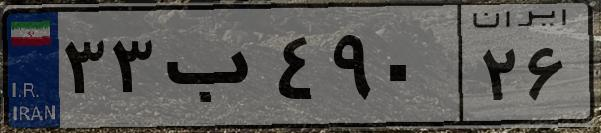0: (385, 28, 445, 110)
2: (475, 38, 525, 113)
3: (57, 26, 110, 100), (110, 28, 158, 98)
4: (270, 28, 330, 110)
6: (525, 38, 570, 115)
9: (330, 28, 385, 110)
ب: (158, 20, 270, 120)
